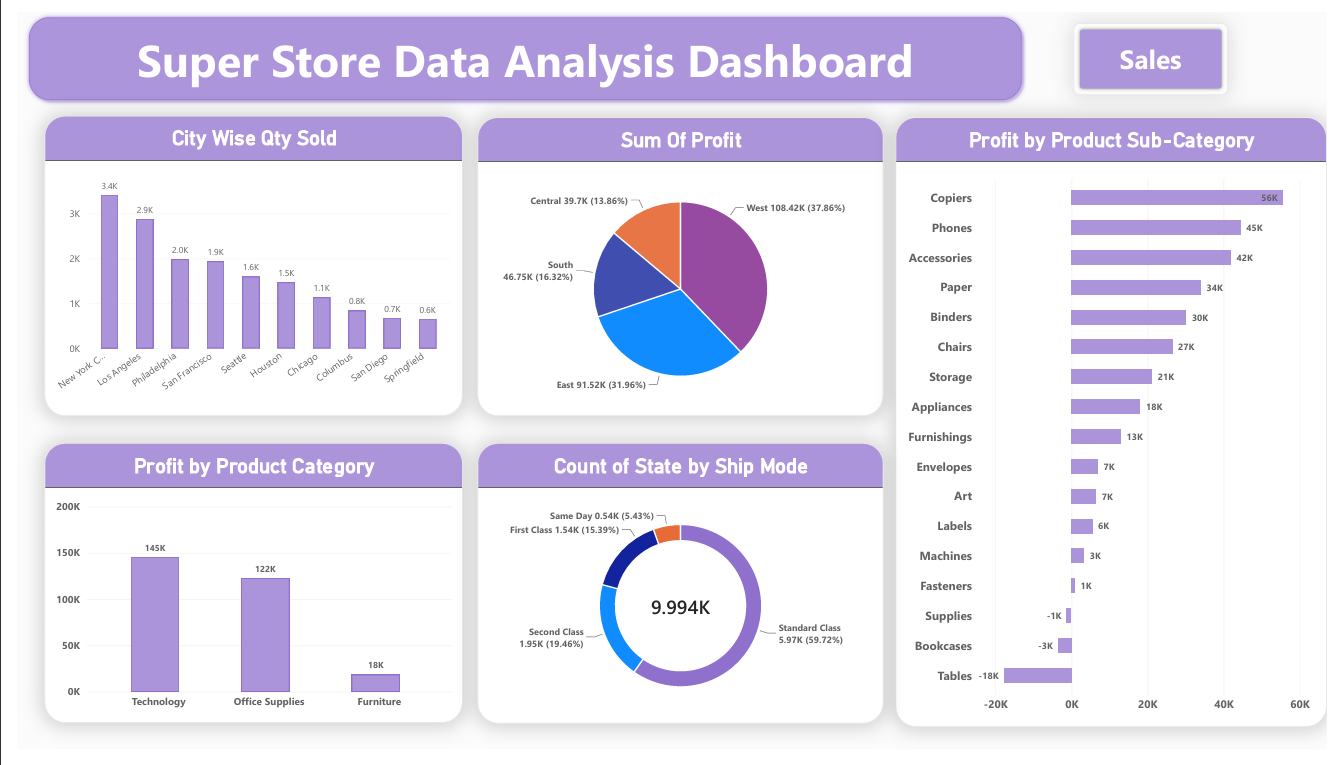

The dashboard page shown, as its layout file describes it:
{"tool":"powerbi","page":{"name":"Home","canvas":[1920,1080],"ordinal":0},"visuals":[{"type":"shape","box":[10.3,0,1469.6,135.8],"z":0},{"type":"clusteredColumnChart","title":"City Wise Qty Sold","fields":{"Category":["SampleSuperstore.City"],"Y":["Sum(SampleSuperstore.Quantity)"]},"box":[39.8,152,613.5,439.7],"z":1000},{"type":"clusteredColumnChart","title":"Profit by Product Category","fields":{"Category":["SampleSuperstore.Category"],"Y":["Sum(SampleSuperstore.Profit)"]},"box":[39.8,631.6,613.5,410.8],"z":2000},{"type":"pieChart","title":"Sum Of Profit","fields":{"Category":["SampleSuperstore.Region"],"Y":["Sum(SampleSuperstore.Profit)"]},"box":[675,153.8,595.4,437.9],"z":3000},{"type":"clusteredBarChart","title":"Profit by Product Sub-Category","fields":{"Category":["SampleSuperstore.Sub-Category"],"Y":["Sum(SampleSuperstore.Profit)"]},"box":[1288.5,153.8,631.6,894],"z":4000},{"type":"donutChart","fields":{"Category":["SampleSuperstore.Ship Mode"],"Y":["CountNonNull(SampleSuperstore.State)"]},"box":[675,632,595,411],"z":5000},{"type":"actionButton","box":[1549.1,16.3,226.2,105],"z":6000}]}

Visuals, with their boxes in screenshot pixels (x1, y1, x2, y2), scaled from the page's 1920x1080 canvas onto the 1343x765 screenshot:
shape: BBox(7, 0, 1035, 96)
"City Wise Qty Sold" clusteredColumnChart: BBox(28, 108, 457, 419)
"Profit by Product Category" clusteredColumnChart: BBox(28, 447, 457, 738)
"Sum Of Profit" pieChart: BBox(472, 109, 889, 419)
"Profit by Product Sub-Category" clusteredBarChart: BBox(901, 109, 1342, 742)
donutChart - SampleSuperstore.Ship Mode x CountNonNull(SampleSuperstore.State): BBox(472, 448, 888, 739)
actionButton: BBox(1084, 12, 1242, 86)
